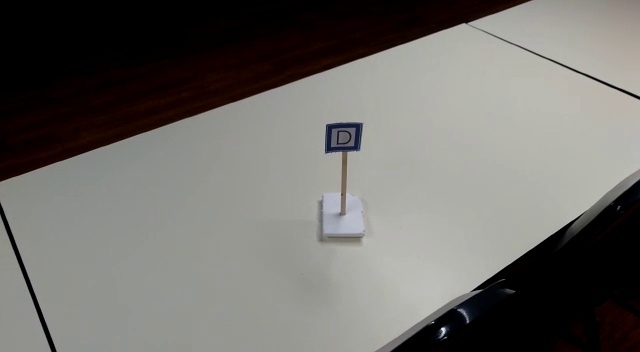durak: (324, 120, 363, 154)
